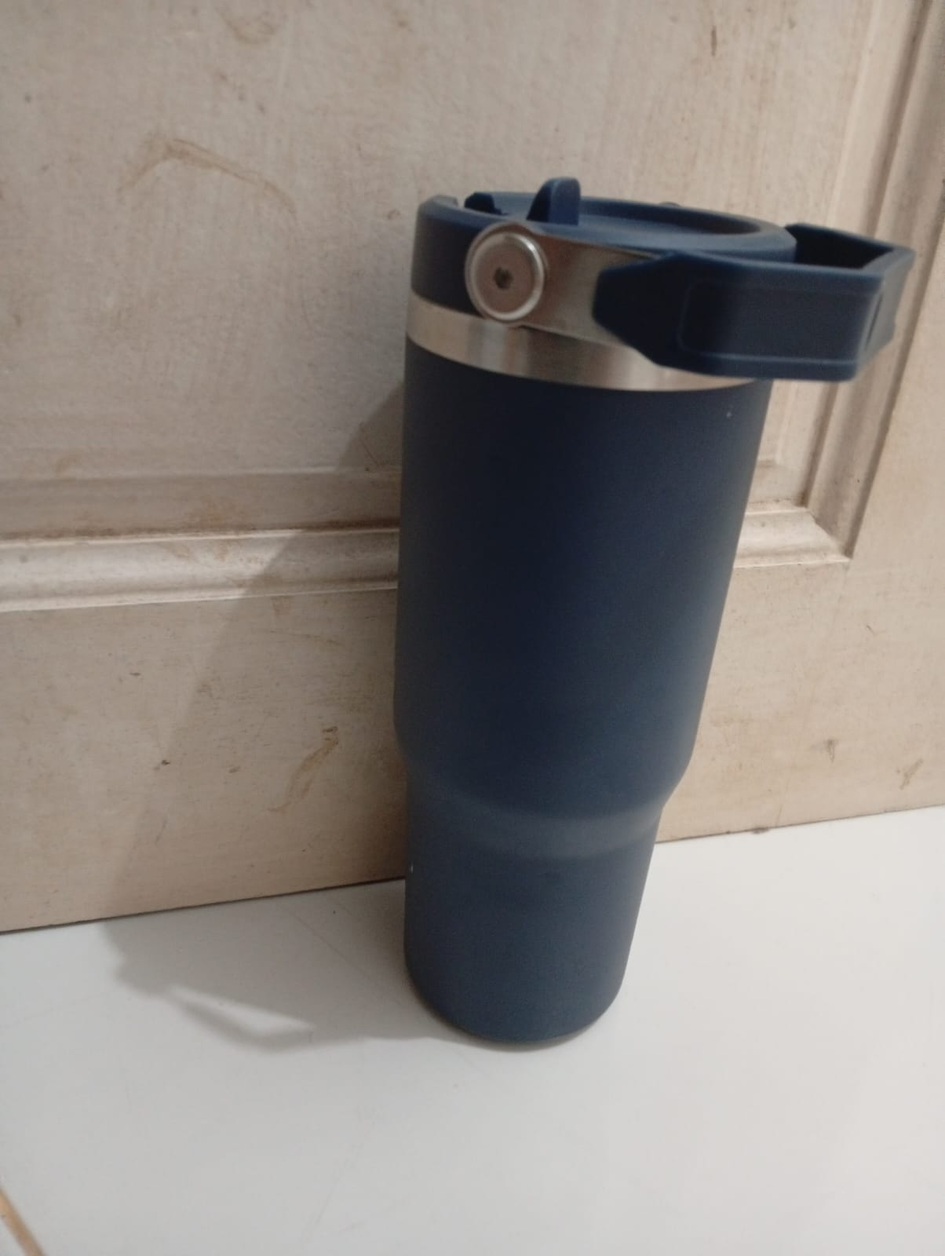Tupperware: (368, 155, 925, 1058)
